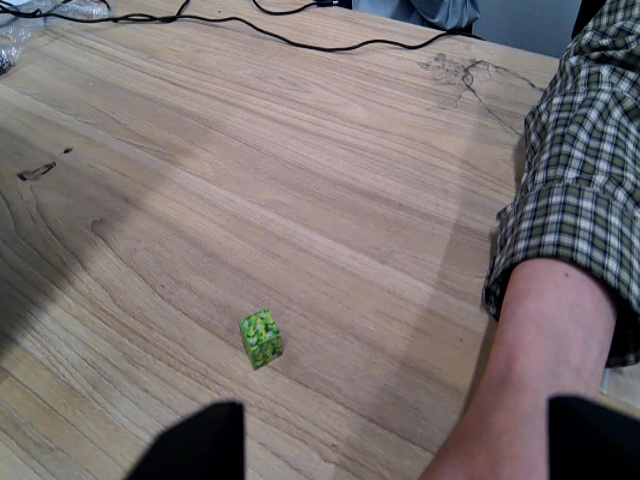grass: (238, 306, 286, 373)
